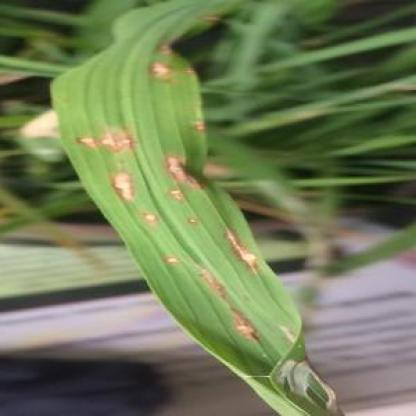Rice blast: (51, 1, 348, 416)
